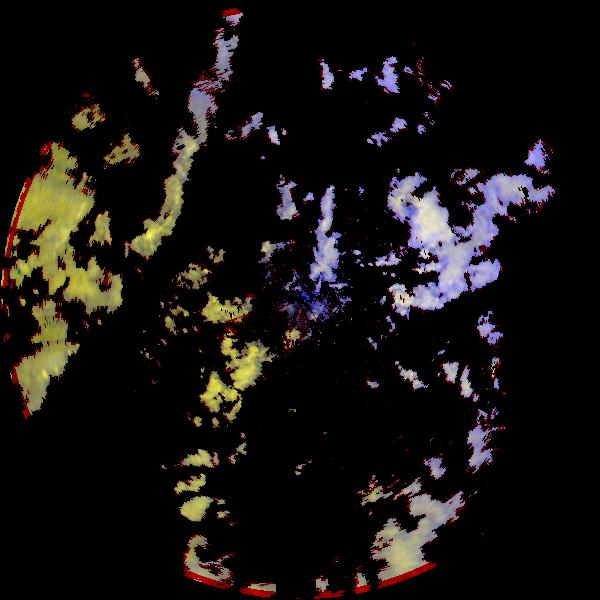roost: (291, 406, 300, 415)
